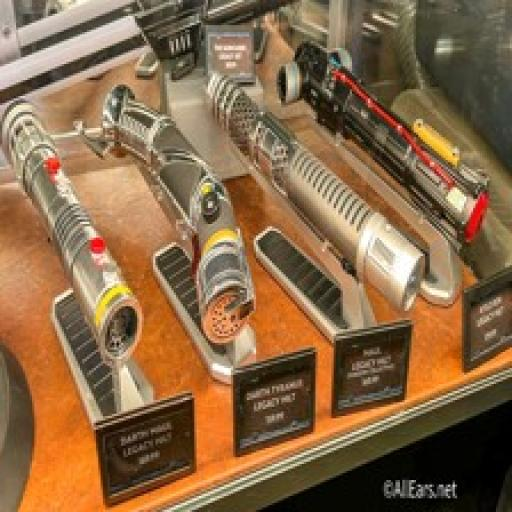lightsaber: (206, 74, 425, 313), (76, 83, 256, 339), (277, 44, 491, 252), (0, 101, 143, 360)
